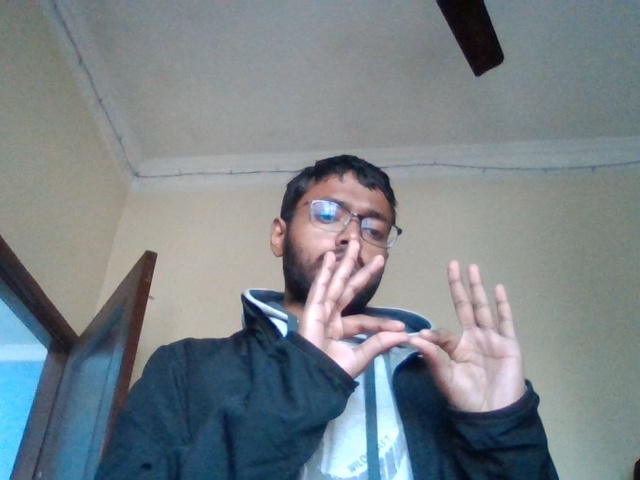family: (309, 238, 522, 400)
